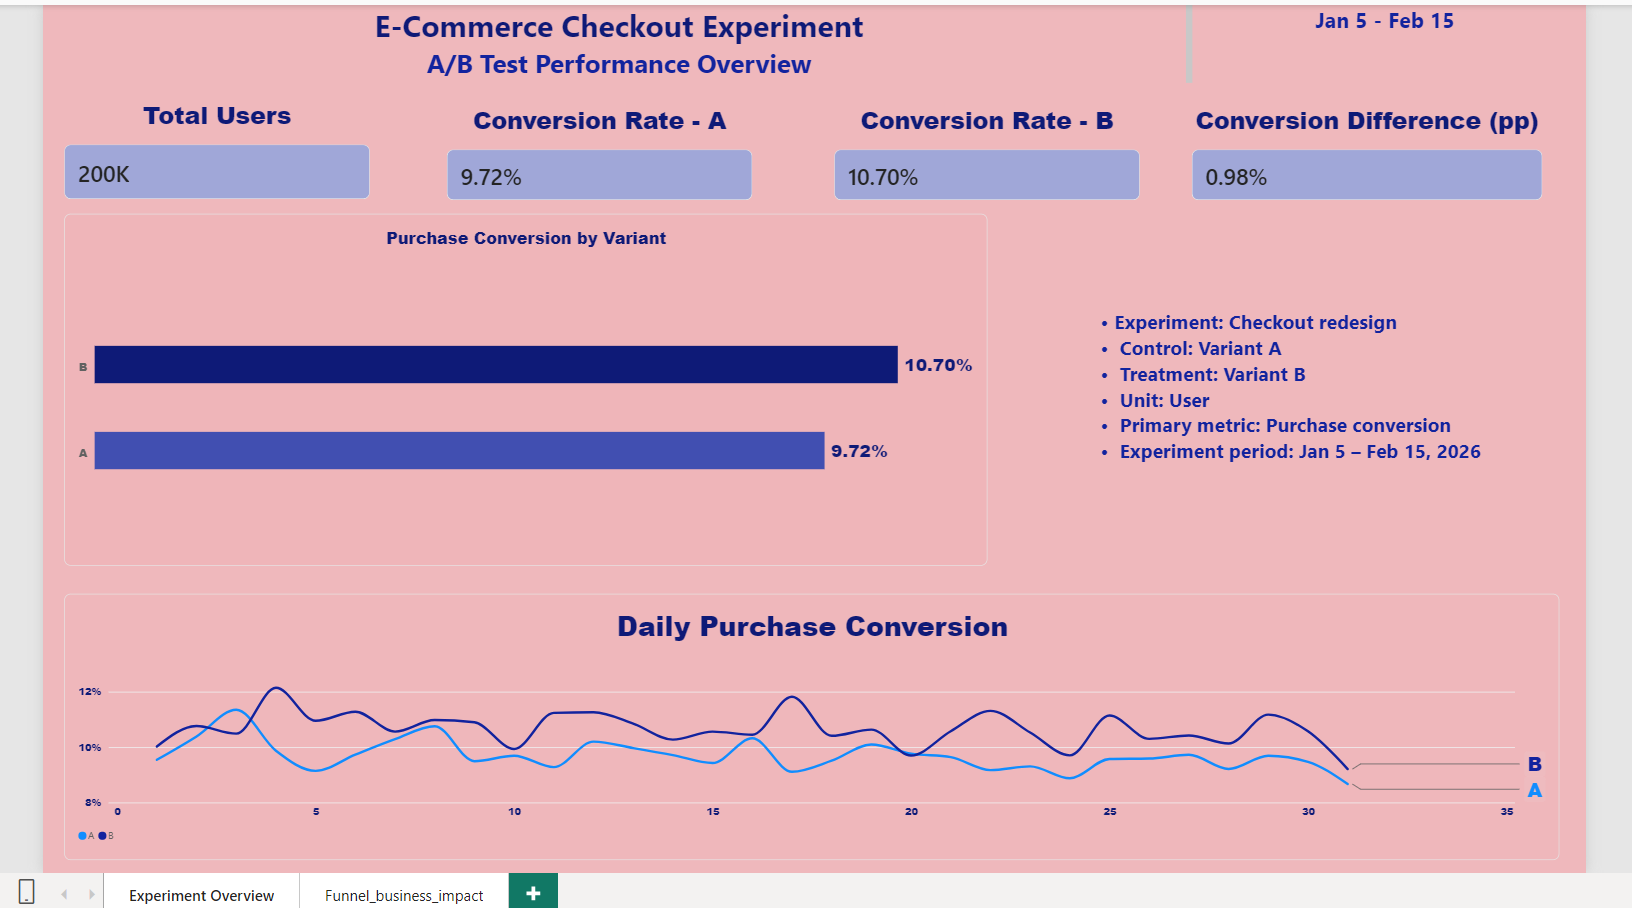

The dashboard page shown, as its layout file describes it:
{"tool":"powerbi","page":{"name":"Experiment Overview","canvas":[1920,1080],"ordinal":0},"visuals":[{"type":"textbox","box":[10.5,0,1418,102.9],"z":0},{"type":"cardVisual","title":"Total Users","fields":{"Data":["_measures.Total Users"]},"box":[26.2,116.9,324.4,125.6],"z":1000},{"type":"cardVisual","title":"Conversion Rate - A","fields":{"Data":["_measures.Conversion Rate"]},"box":[502.3,122.1,314,120.3],"z":2000},{"type":"cardVisual","title":"Conversion Rate - B","fields":{"Data":["_measures.Conversion Rate"]},"box":[983.7,122.1,312.2,120.3],"z":3000},{"type":"cardVisual","title":"Conversion Difference (pp)","fields":{"Data":["_measures.Conversion Difference"]},"box":[1465.1,122.1,312.2,120.3],"z":4000},{"type":"clusteredBarChart","title":"Purchase Conversion by Variant","fields":{"Category":["Experiment_data.variant"],"Y":["_measures.Conversion Rate"]},"box":[26.2,259.9,997.7,437.8],"z":5000},{"type":"lineChart","title":"Daily Purchase Conversion","fields":{"Category":["Experiment_data.experiment_date.Variation.Date Hierarchy.Day"],"Series":["Experiment_data.variant"],"Y":["_measures.Conversion Rate"]},"box":[26.2,732.6,1859.3,331.4],"z":6000},{"type":"textbox","box":[1295.9,378.5,589.5,319.2],"z":7000},{"type":"textbox","box":[1465.1,0,406.4,102.9],"z":8000}]}

Visuals, with their boxes on the page's 1920x1080 design canvas (x1, y1, x2, y2). These are canvas units, not pixel positions in the 1632x908 screenshot, which may show the page scaled, cropped or inside an application window:
textbox: (10, 0, 1428, 103)
"Total Users" cardVisual: (26, 117, 351, 242)
"Conversion Rate - A" cardVisual: (502, 122, 816, 242)
"Conversion Rate - B" cardVisual: (984, 122, 1296, 242)
"Conversion Difference (pp)" cardVisual: (1465, 122, 1777, 242)
"Purchase Conversion by Variant" clusteredBarChart: (26, 260, 1024, 698)
"Daily Purchase Conversion" lineChart: (26, 733, 1886, 1064)
textbox: (1296, 378, 1885, 698)
textbox: (1465, 0, 1872, 103)
